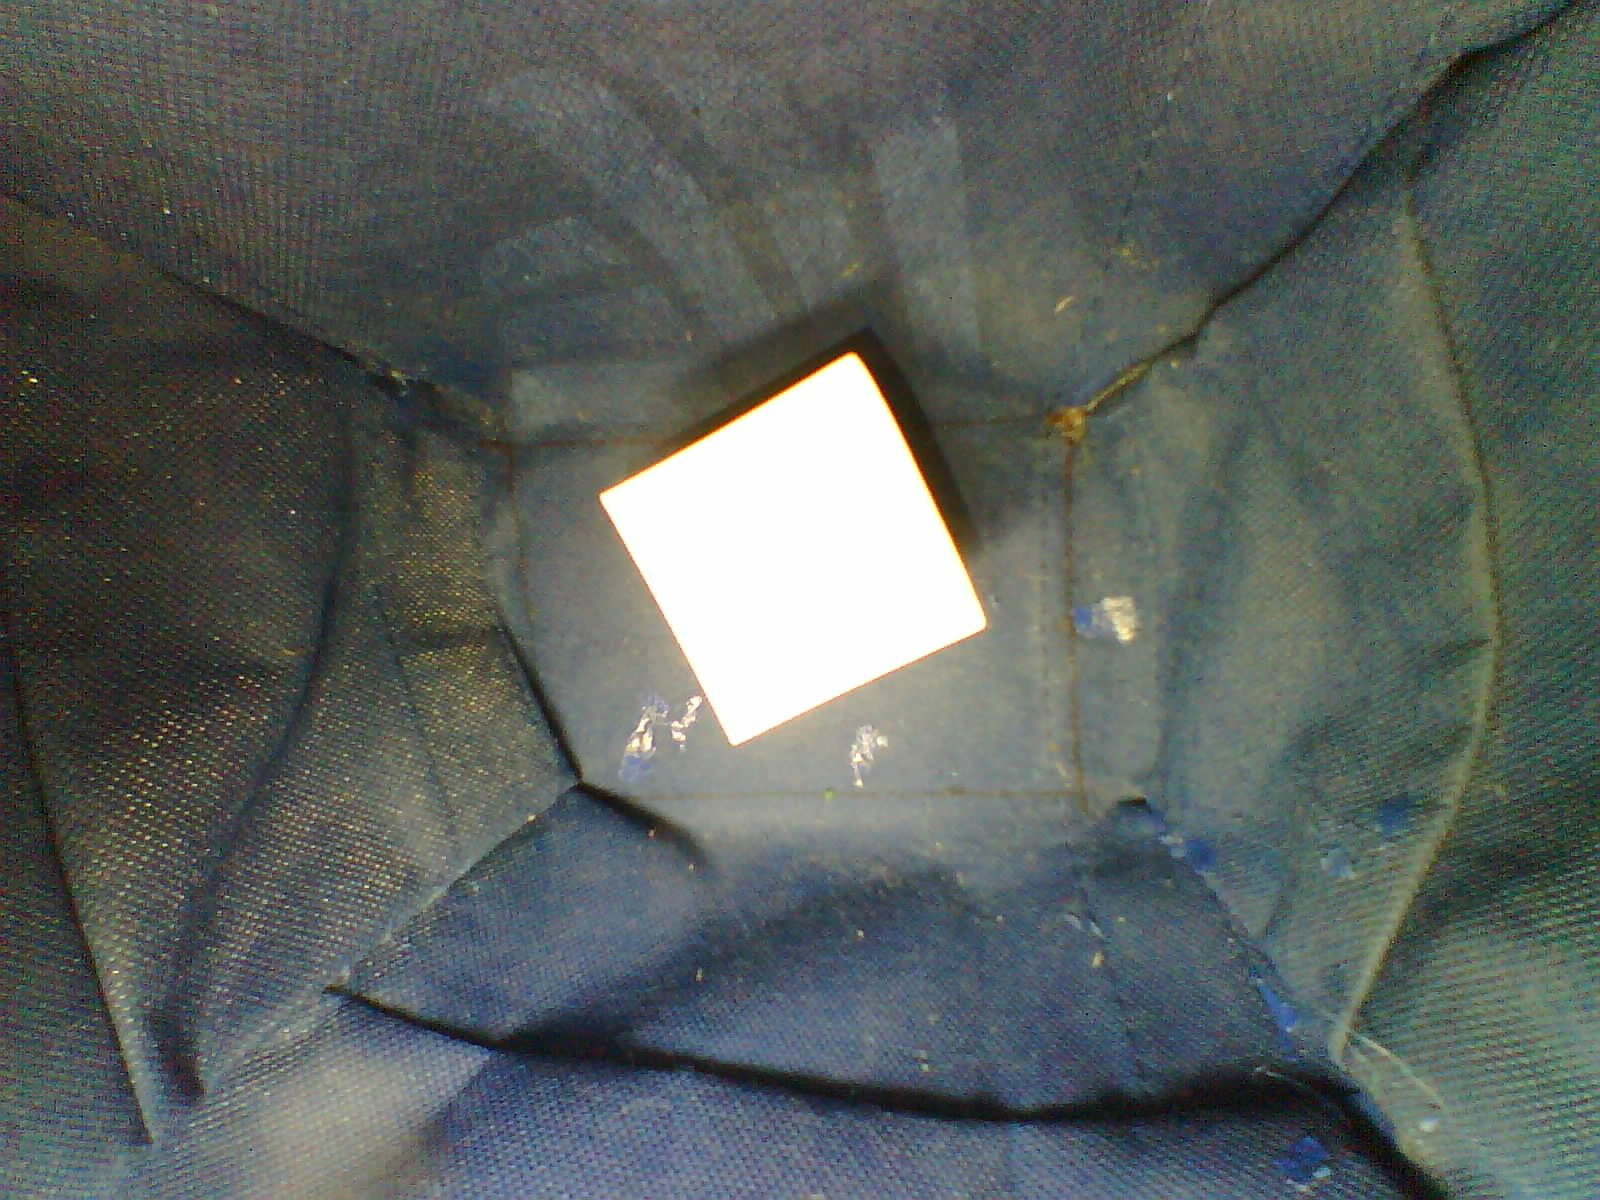cube-hard: (588, 333, 1007, 779)
